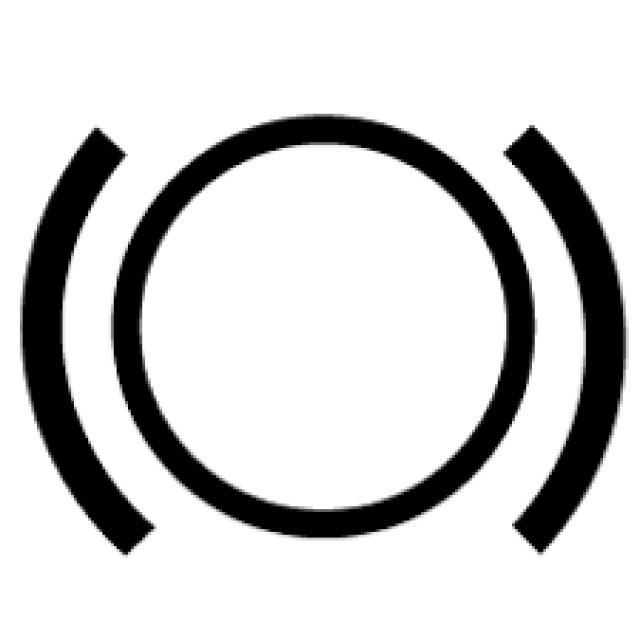kontrolka: (12, 105, 634, 537)
